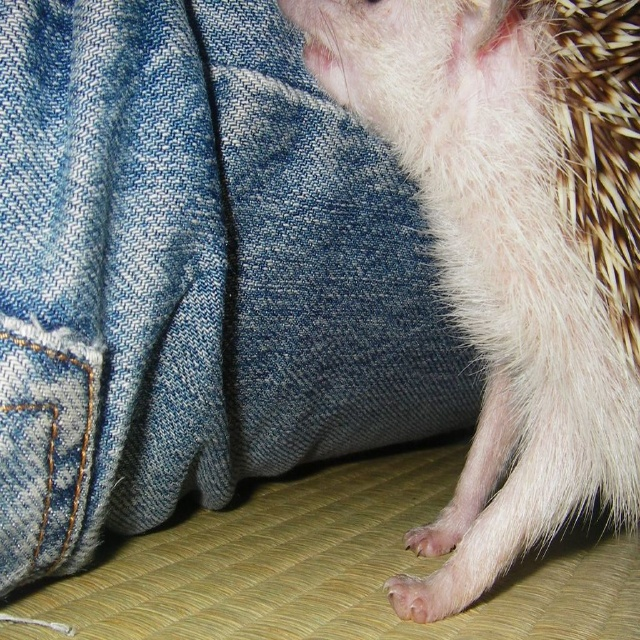Hedgehog: (276, 0, 640, 626)
